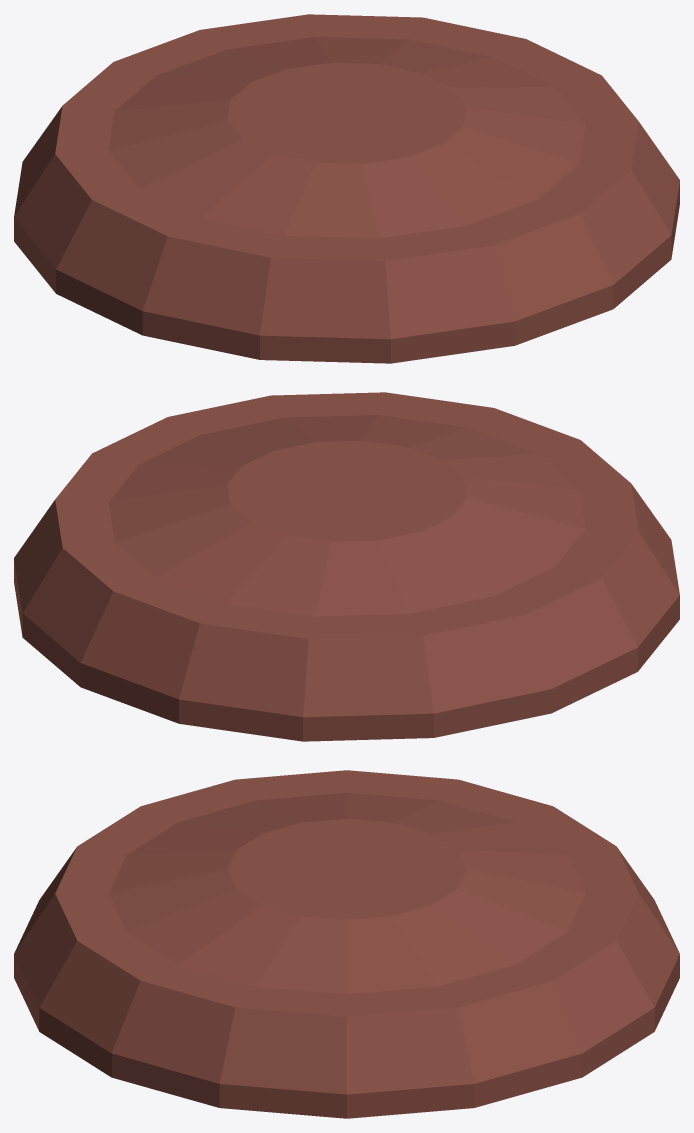
Rendered from Shield_5_a_r.fbx.
3 renders of one model, top to bottom at view 1: azimuth 30°, elevation 25°; view 2: azimuth 150°, elevation 25°; view 3: azimuth 270°, elevation 25°, orthographic.
Visible parts, largest first — view 1: Circle.253; view 2: Circle.253; view 3: Circle.253.
Boxes of the visible parts, box(x1,y1,x2,y2) form: Circle.253: box(14, 14, 679, 363); Circle.253: box(14, 392, 679, 741); Circle.253: box(14, 770, 679, 1118).
Bounding box in the file's own units: 50 × 15.06 × 50.
